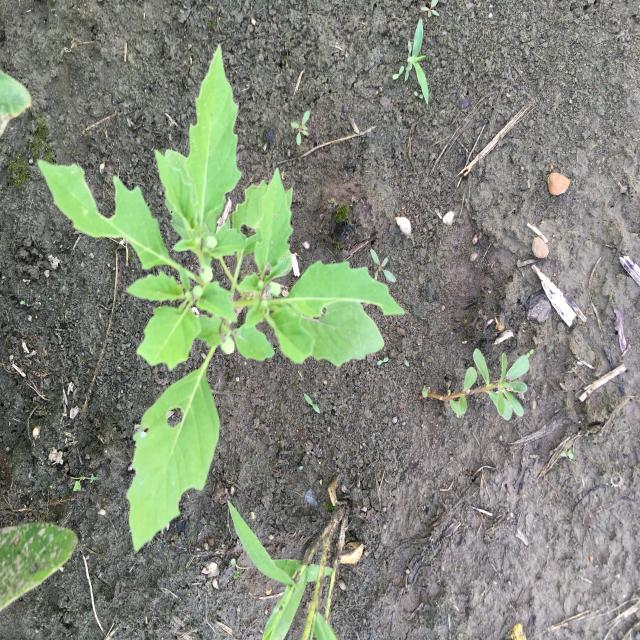CutleafGroundcherry: (33, 39, 409, 554)
Purslane: (418, 347, 532, 423)
